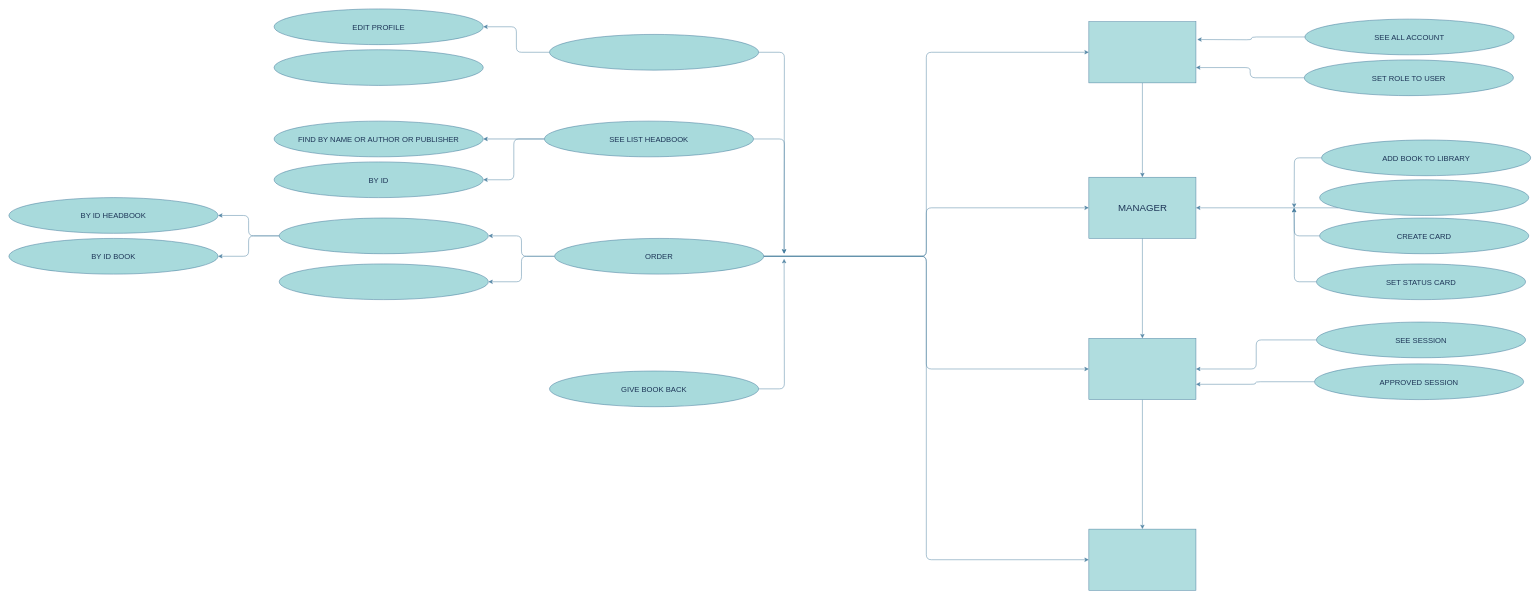
Image size: 1540x599. Some labels were removed from this diagram. The shapes that lost their labels are listed below. From the top down, each one's centre as x and y in pixels, then its label:
pixel 378 67: SEE PROFILE
pixel 654 52: REGISTER ACCOUNT
pixel 1142 52: ADMIN
pixel 1424 197: SEE ALL CARD
pixel 383 236: ORDER BORROWED
pixel 383 281: ORDER MORETIME
pixel 1142 369: LIBRARIAN
pixel 1142 559: USER
